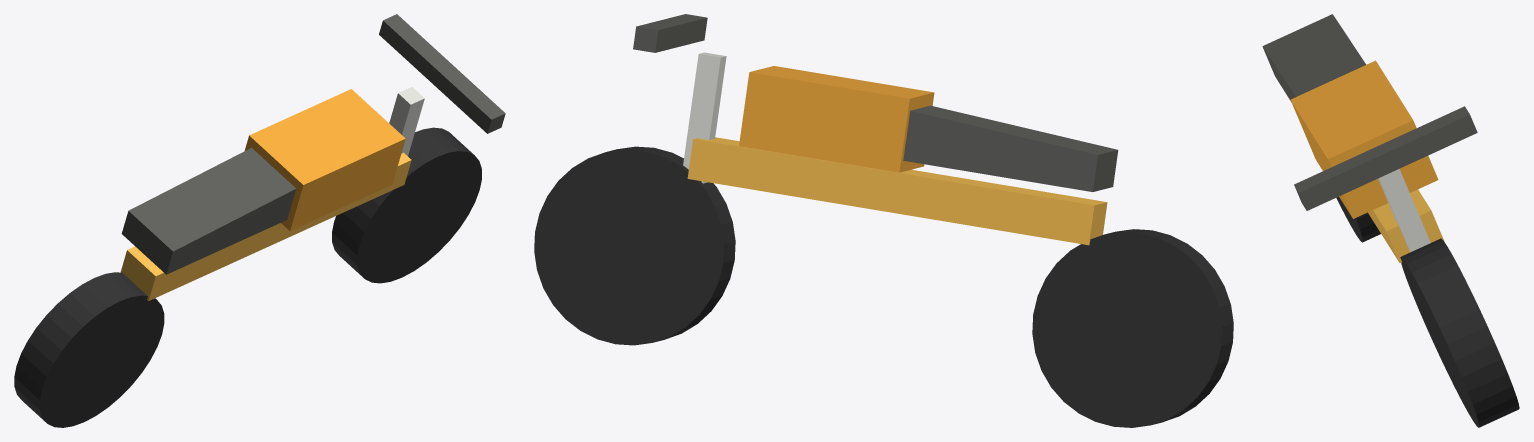
File: electric-scooter.glb
3 views of the same model, side by side, from view 1: azimuth 30°, elevation 25°; view 2: azimuth 150°, elevation 25°; view 3: azimuth 270°, elevation 25° (orthographic). The views are drawn at different scales.
Size of the model in its own units: 2.45 by 1.28 by 0.929.
